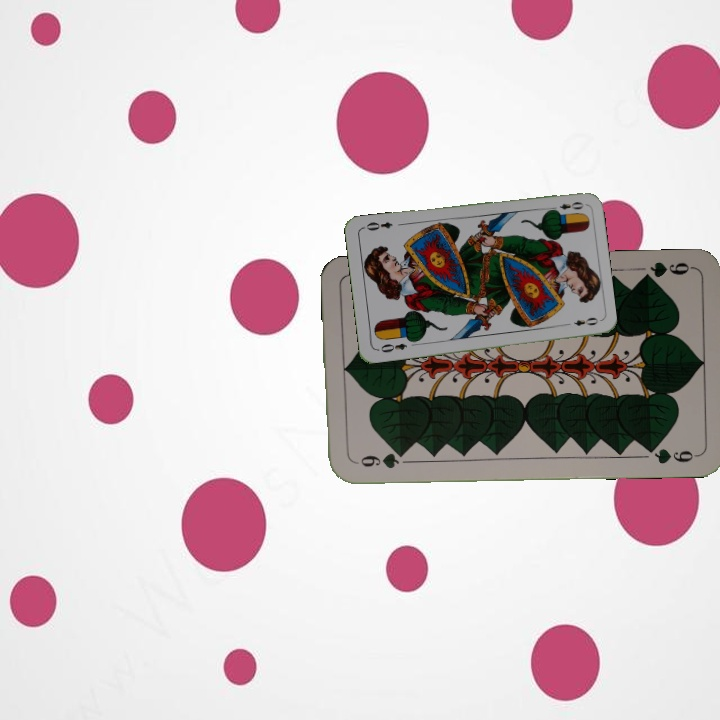EO: (546, 198, 586, 215), (373, 339, 409, 355)
G9: (636, 257, 694, 284), (349, 448, 408, 471)
